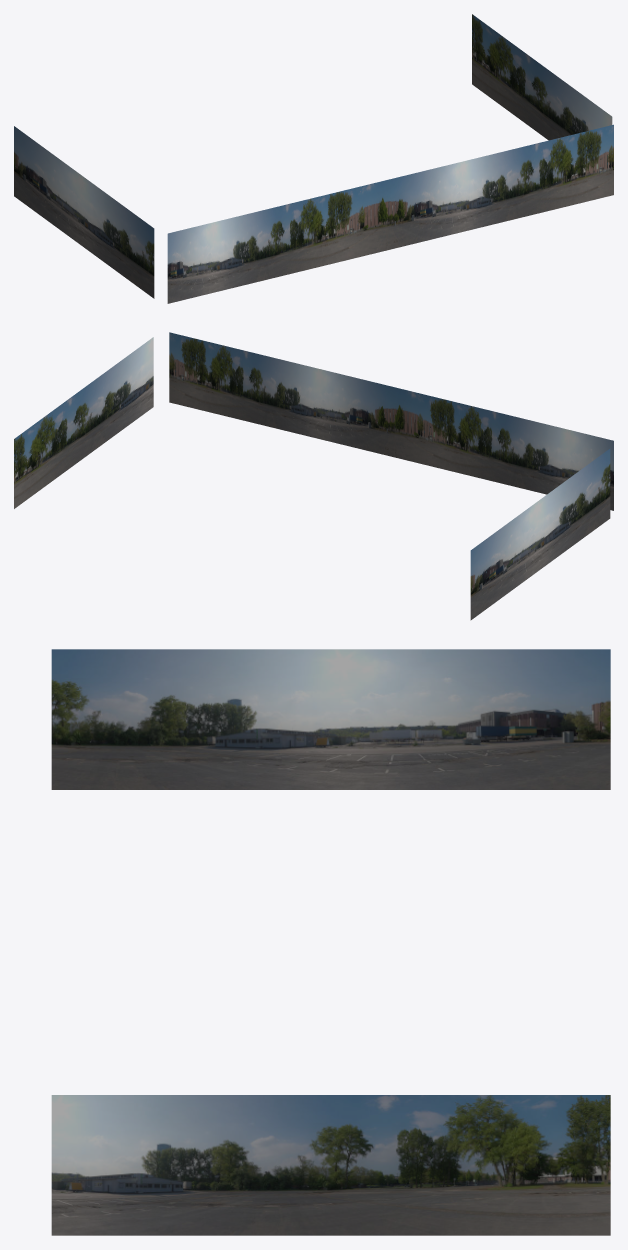
Rendered from FakeSky.gltf.
3 views of the same model, one above another, from view 1: azimuth 30°, elevation 25°; view 2: azimuth 150°, elevation 25°; view 3: azimuth 270°, elevation 25° (orthographic). The views are drawn at different scales.
Parts seen in each view (by area): view 1: FakeSky; view 2: FakeSky; view 3: FakeSky.
Boxes of the visible parts, x1,y1,x2,y2 form: FakeSky: [14, 14, 613, 303]; FakeSky: [14, 332, 613, 620]; FakeSky: [51, 649, 610, 1235].
Size of the model in its own units: 20.42 by 3 by 11.49.
Materials: 1 (1 with a texture image).
